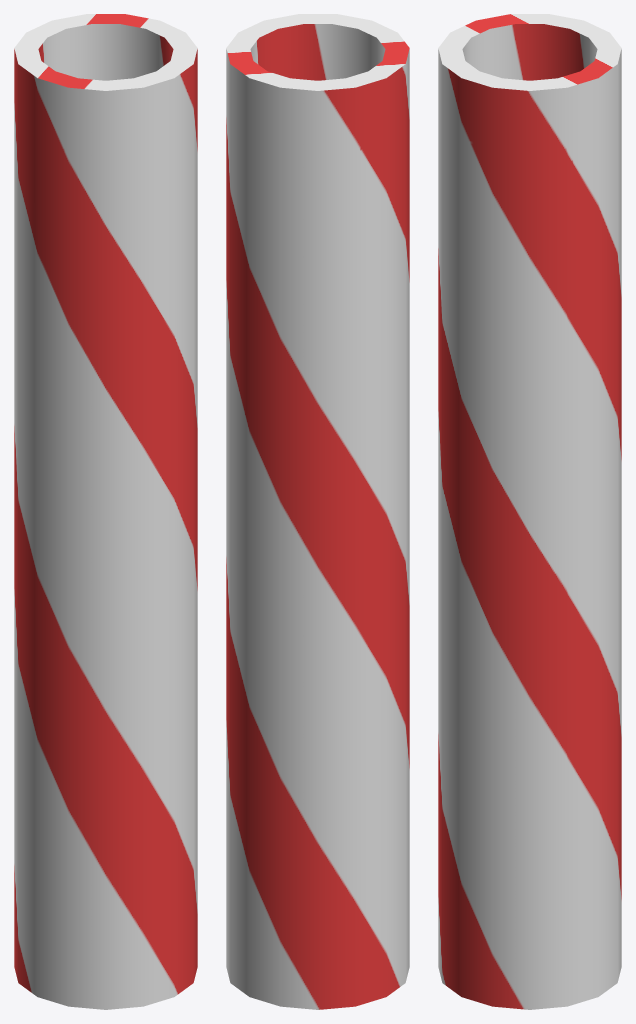
Rendered from SM_Straw.fbx.
3 renders of one model, left to right at view 1: azimuth 30°, elevation 25°; view 2: azimuth 150°, elevation 25°; view 3: azimuth 270°, elevation 25°, orthographic.
Parts seen in each view (by area): view 1: SM_Straw; view 2: SM_Straw; view 3: SM_Straw.
Boxes of the visible parts, left/top/right/bottom form: SM_Straw: left=14, top=14, right=197, bottom=1009; SM_Straw: left=226, top=14, right=409, bottom=1009; SM_Straw: left=438, top=14, right=621, bottom=1009.
Bounding box in the file's own units: 72.02 × 400 × 72.42.
Materials: 1 (1 with a texture image).
